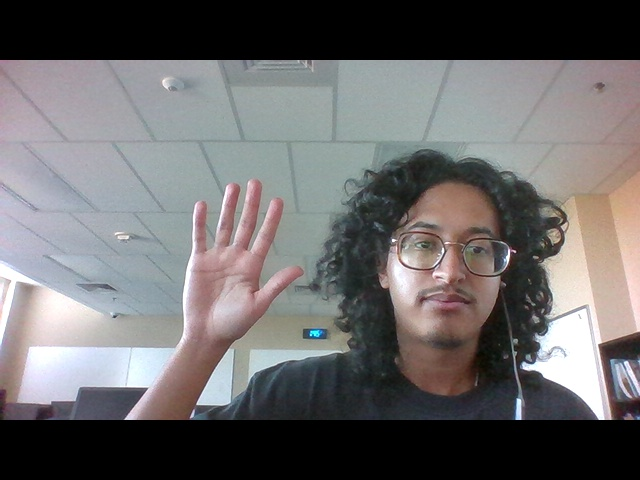hello: (184, 177, 306, 347)
